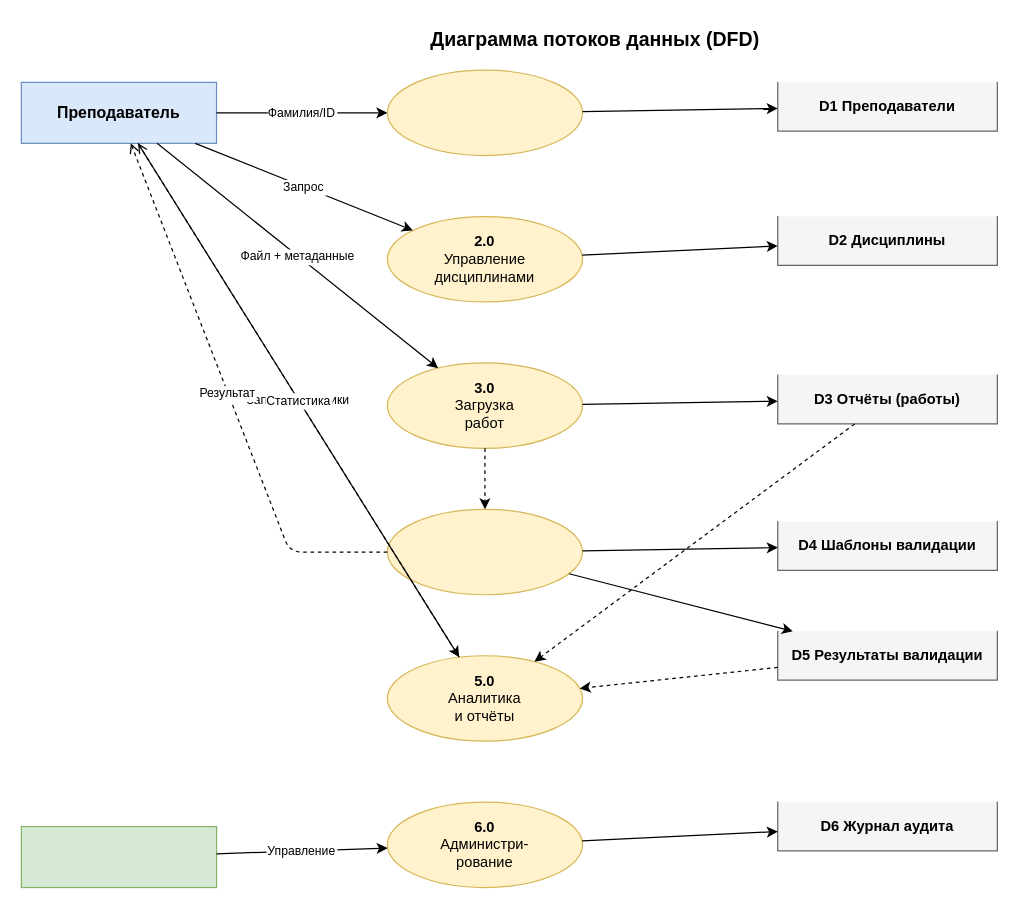
The diagram is 1019 pixels wide and 909 high, and some of its shapes have lost their labels. The centre of each missing label's shape, as x and y in pixels:
1.0 Авторизация: (484,112)
4.0 Валидация документов: (484,551)
Администратор: (118,856)
